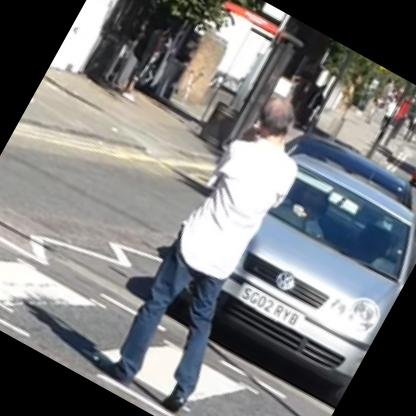Human Body: (88, 77, 334, 413)
